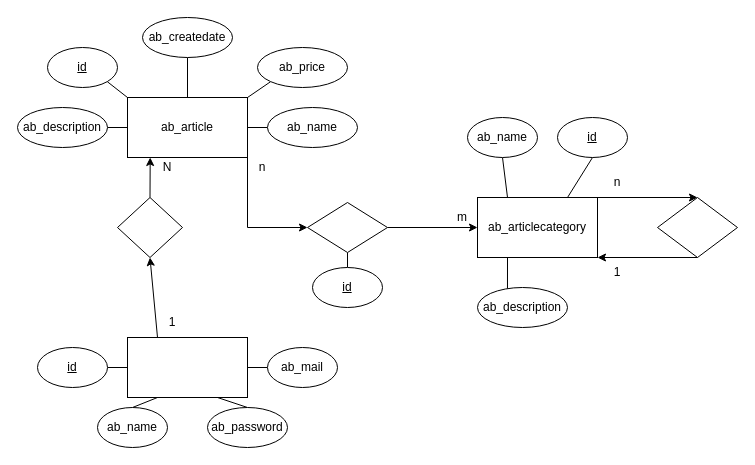
The diagram is 755 pixels wide and 465 high, and some of its shapes have lost their labels. The box of each missing label's shape, as (x1, y1, x2, y2) in pixels:
creates: (116, 196, 182, 258)
has: (306, 202, 388, 252)
has Parent: (656, 196, 738, 258)
user: (126, 336, 248, 398)
